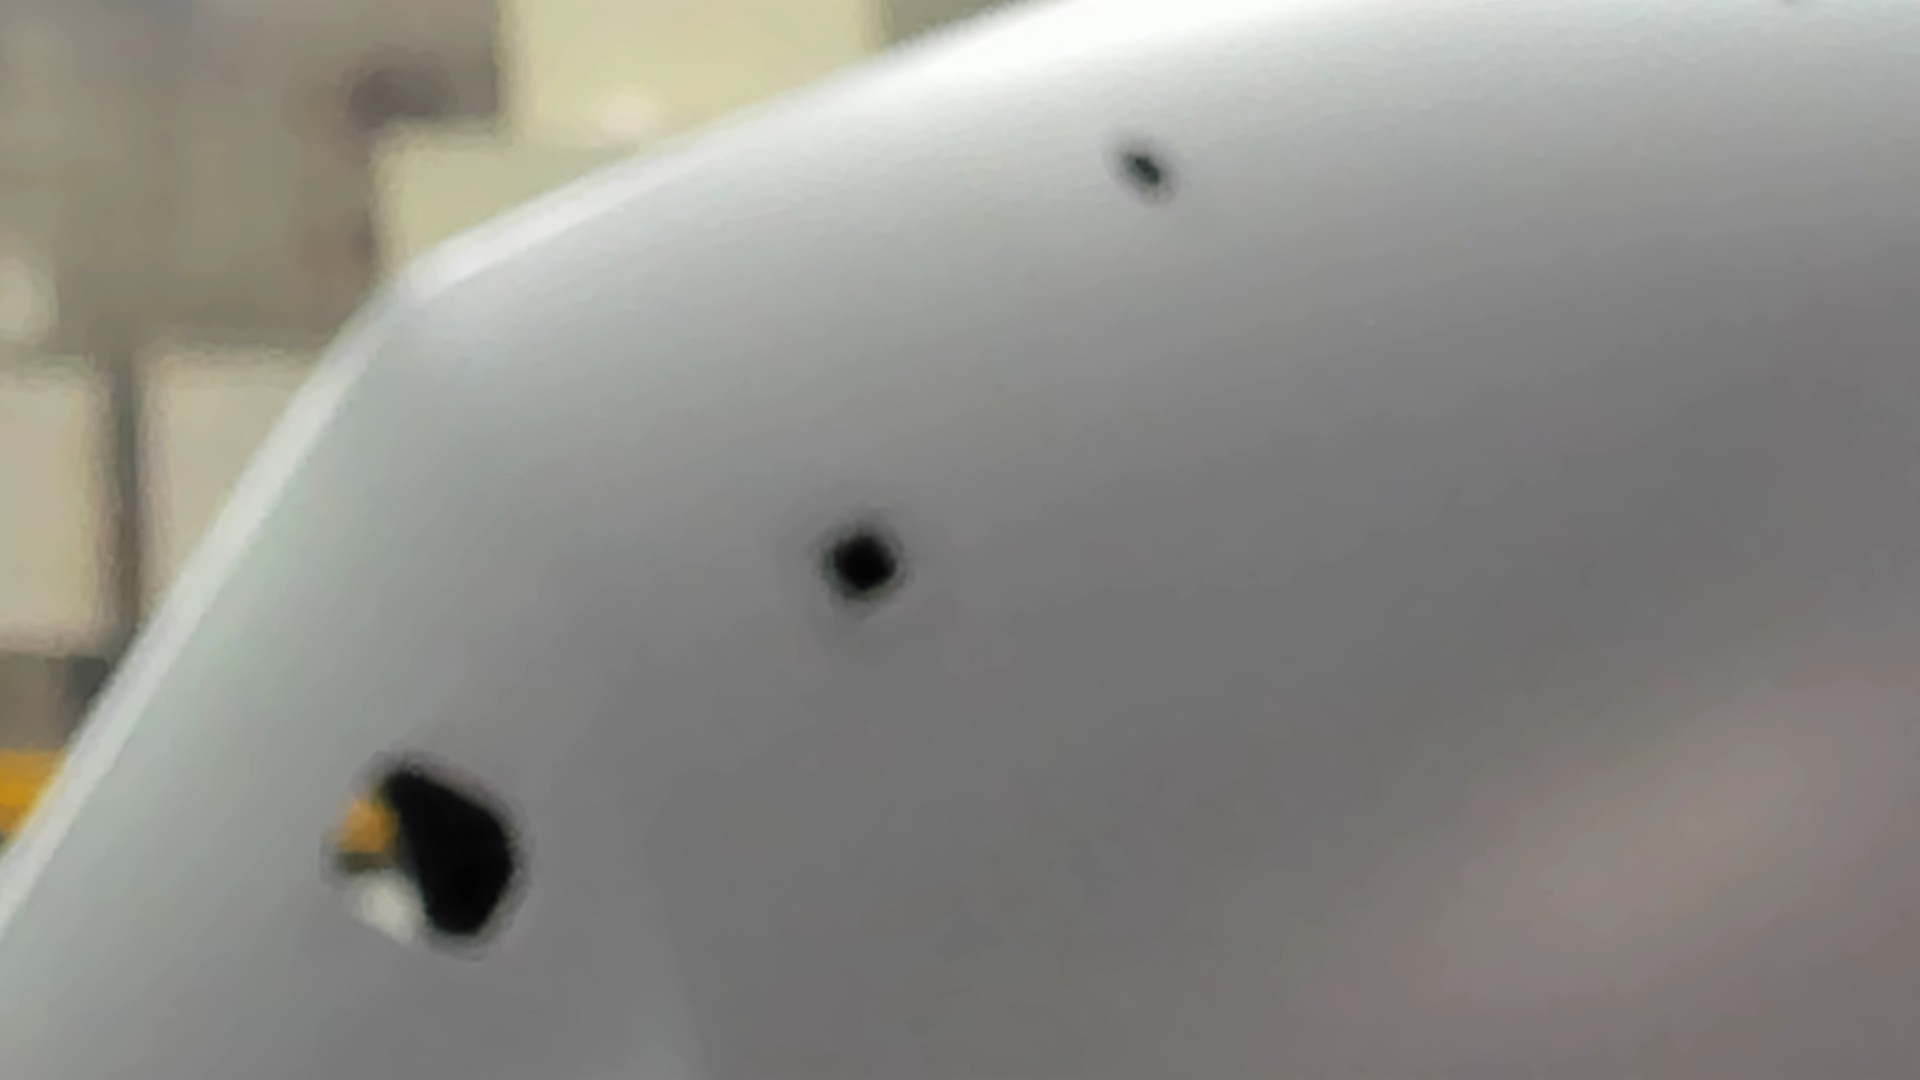chico: (1106, 135, 1178, 204)
grande: (320, 745, 530, 953)
mediano: (807, 518, 918, 615)
